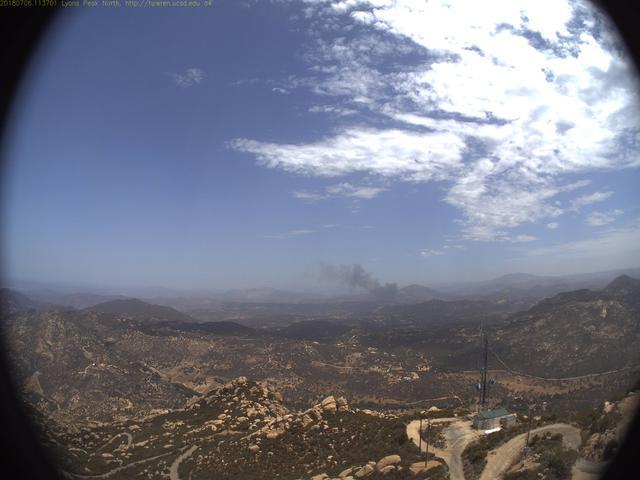smoke: (310, 257, 422, 329)
